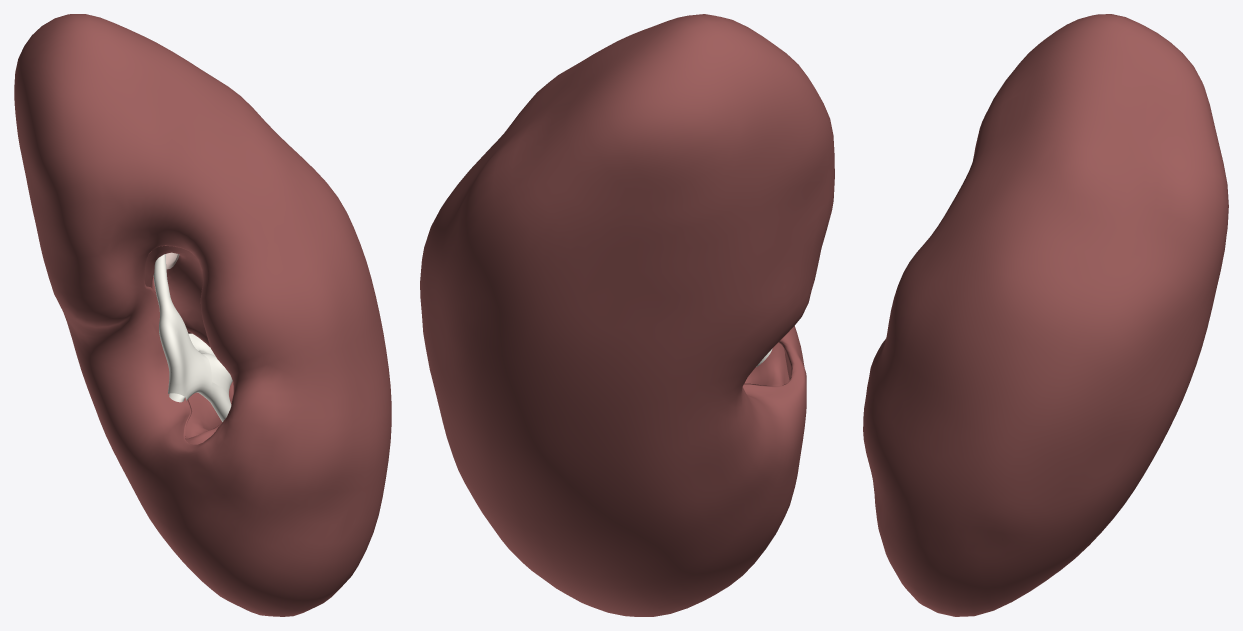
The model's file is kidney_l.glb.
3 renders of one model, left to right at view 1: azimuth 30°, elevation 25°; view 2: azimuth 150°, elevation 25°; view 3: azimuth 270°, elevation 25°, orthographic. The views are drawn at different scales.
Visible parts, largest first — view 1: VH_F_kidney_capsule_L, VH_F_minor_calyx_L_a; view 2: VH_F_kidney_capsule_L; view 3: VH_F_kidney_capsule_L.
Part boxes in pixels (x1,y1,x2,y2): VH_F_kidney_capsule_L: (14, 14, 391, 616); VH_F_minor_calyx_L_a: (153, 254, 232, 421); VH_F_kidney_capsule_L: (420, 14, 834, 616); VH_F_kidney_capsule_L: (863, 14, 1228, 616).
Bounding box in the file's own units: 0.0731 × 0.1249 × 0.0776.
